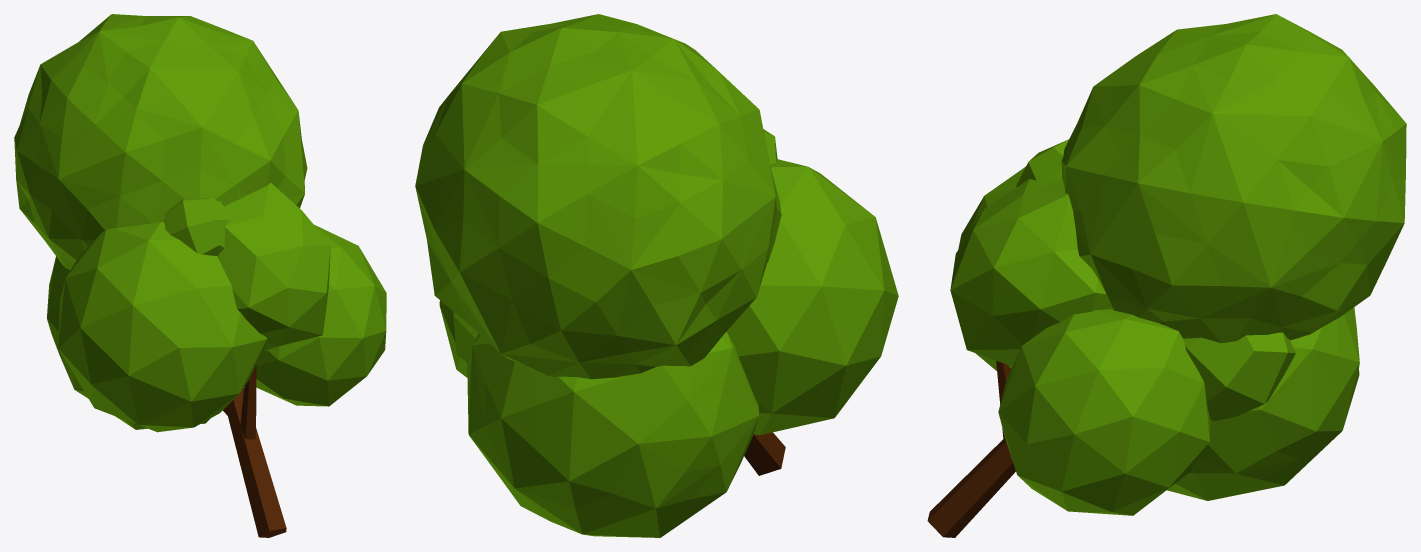
Rendered from greekTreeTall.fbx.
3 renders of one model, left to right at view 1: azimuth 30°, elevation 25°; view 2: azimuth 150°, elevation 25°; view 3: azimuth 270°, elevation 25°, orthographic. The views are drawn at different scales.
Parts seen in each view (by area): view 1: tree-lime; view 2: tree-lime; view 3: tree-lime.
Boxes of the visible parts, x1,y1,x2,y2 form: tree-lime: [14, 14, 386, 537]; tree-lime: [415, 14, 898, 537]; tree-lime: [927, 14, 1406, 537].
Size of the model in its own units: 197 by 256 by 217.
